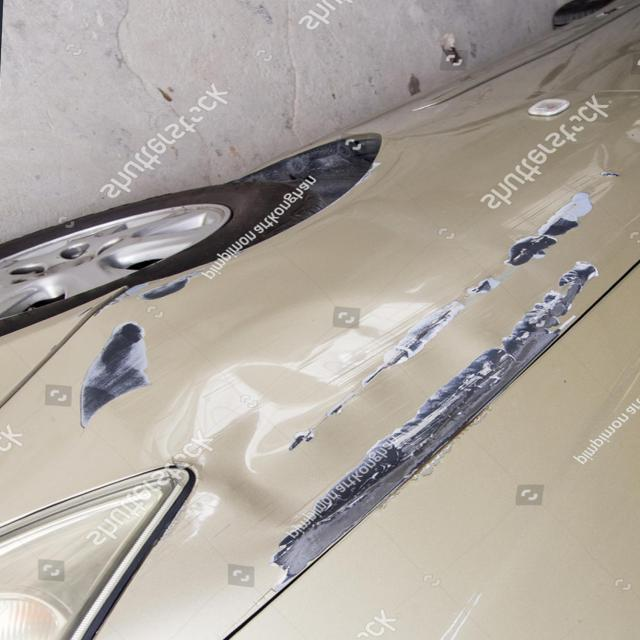scratch: (234, 219, 621, 599), (67, 267, 202, 437)
